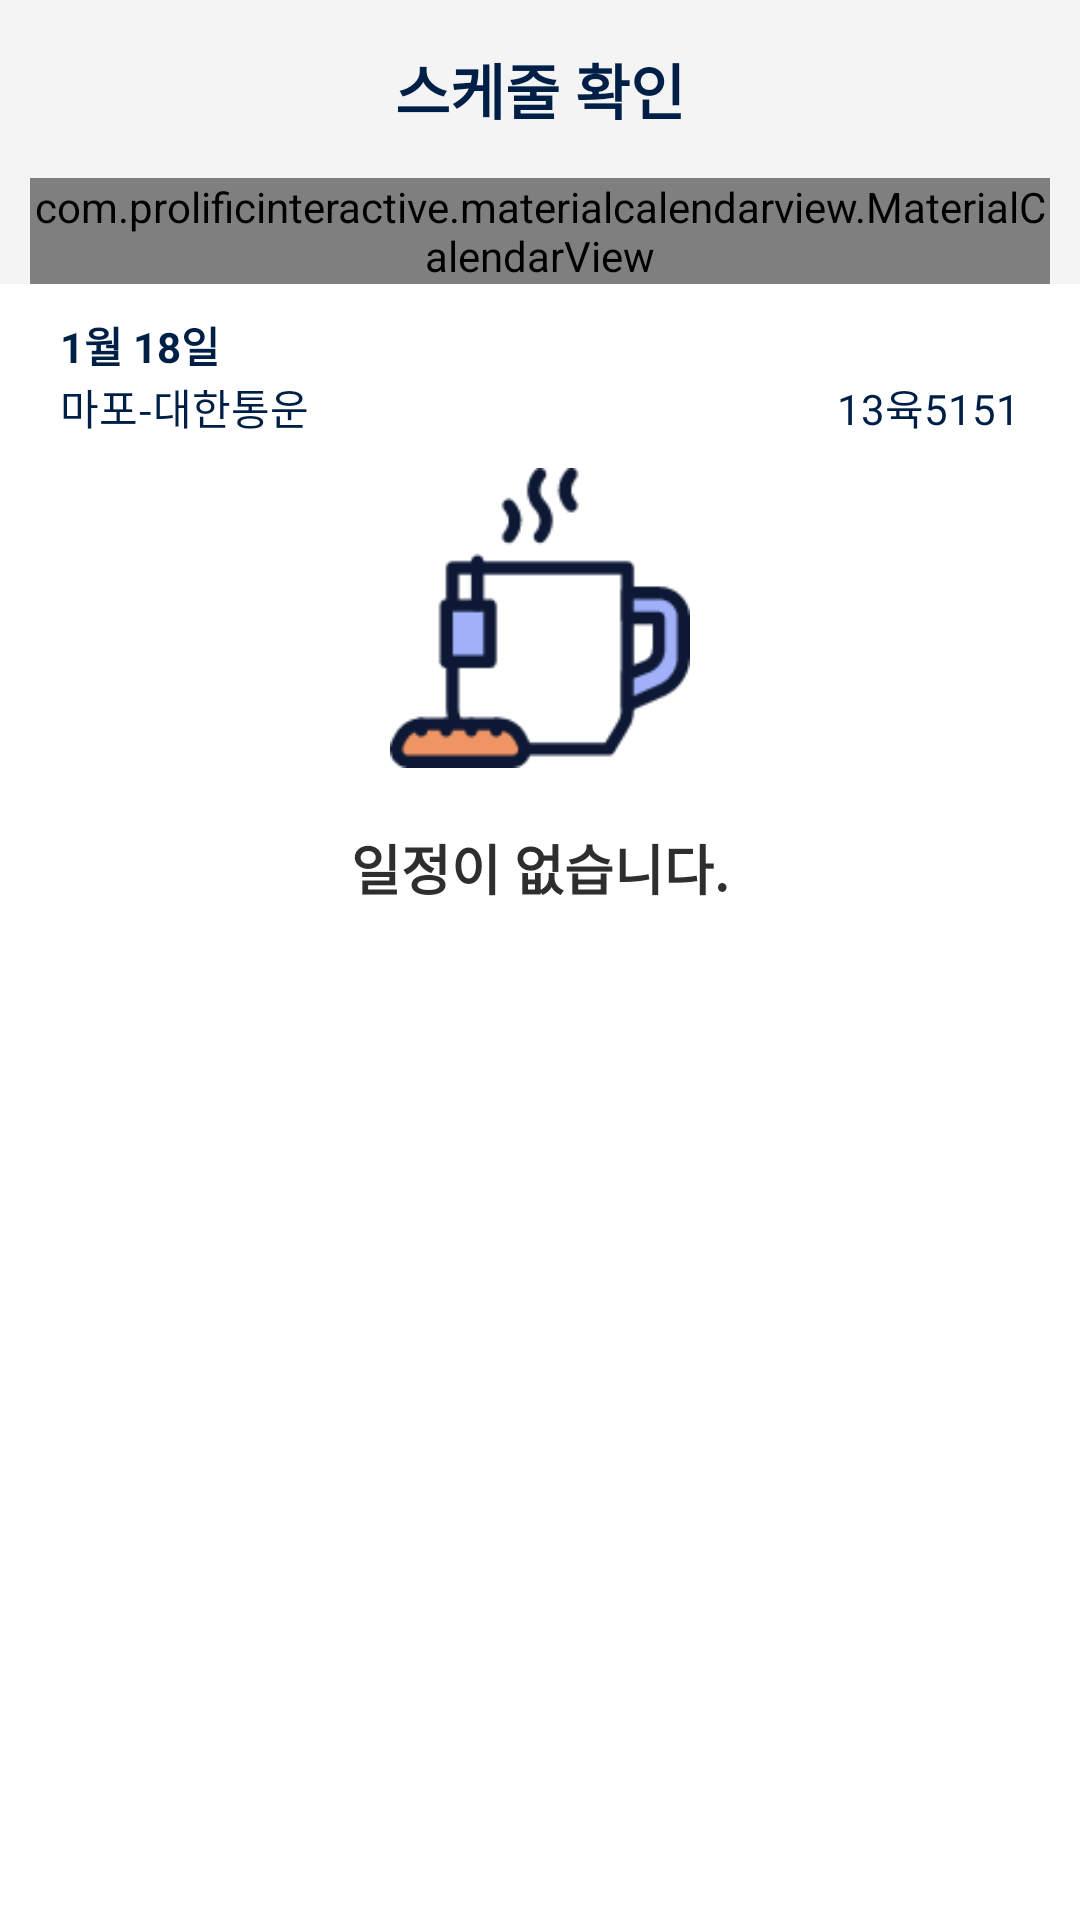

Locate icon controls on the screen. Image size 1080x1920, boxes as (x1, y1, x2, y2).
coffee: (390, 468, 690, 768)
